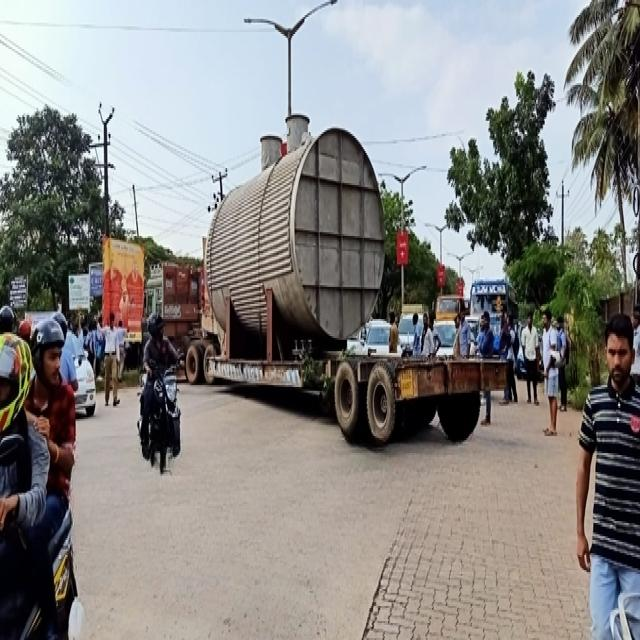truck: (162, 116, 505, 437)
